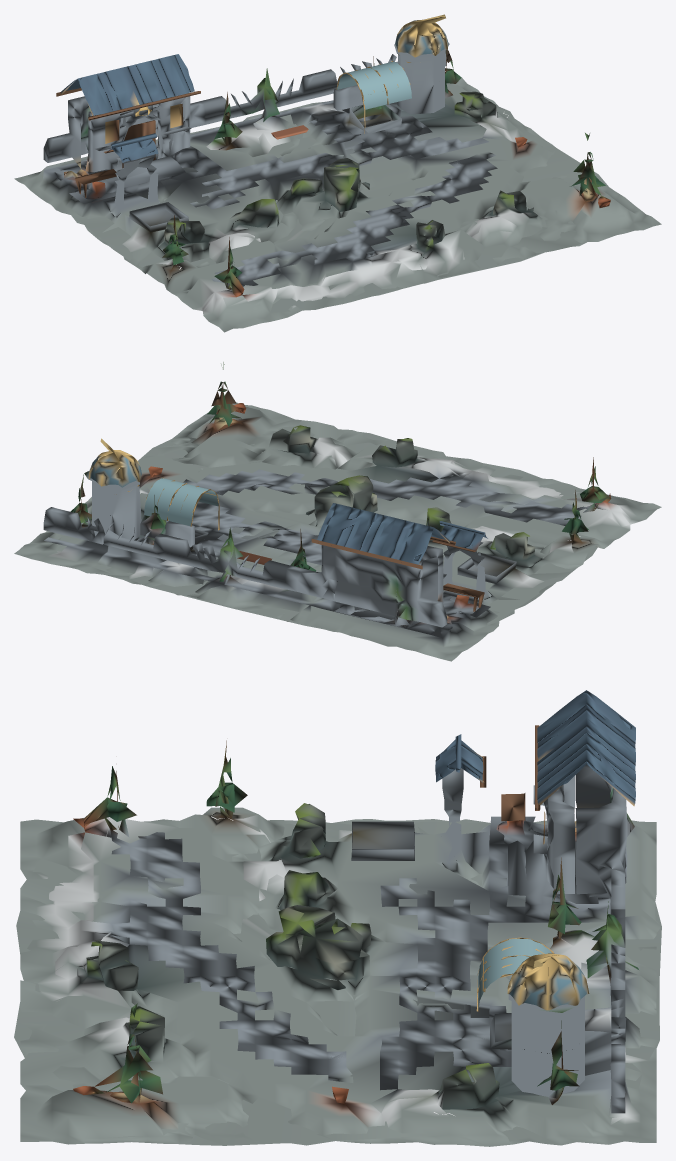
The model's file is hibern.far.glb.
3 views of the same model, one above another, from view 1: azimuth 30°, elevation 25°; view 2: azimuth 150°, elevation 25°; view 3: azimuth 270°, elevation 25° (orthographic). The views are drawn at different scales.
Parts seen in each view (by area): view 1: merged-masonry-botany, merged-timber-ceramic, merged-opaque-water; view 2: merged-masonry-botany, merged-timber-ceramic, merged-opaque-water; view 3: merged-masonry-botany, merged-timber-ceramic, merged-opaque-water.
Boxes of the visible parts, x1,y1,x2,y2 form: merged-masonry-botany: (14,42,661,332); merged-timber-ceramic: (56,14,448,197); merged-opaque-water: (337,62,411,109); merged-masonry-botany: (14,362,661,661); merged-timber-ceramic: (88,438,487,611); merged-opaque-water: (144,478,218,526); merged-masonry-botany: (14,740,661,1146); merged-timber-ceramic: (435,690,635,1011); merged-opaque-water: (478,938,551,1009).
Size of the model in its own units: 24.23 by 5.66 by 20.37.
